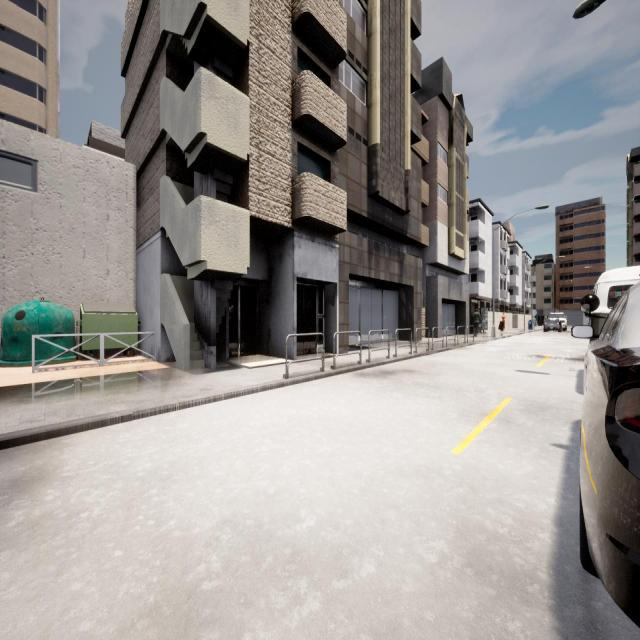Pedestrian: (473, 308, 479, 336), (502, 311, 505, 331)
Traffic_Signs: (532, 309, 537, 315)
Vehicle: (579, 277, 640, 628), (590, 267, 640, 334), (550, 313, 566, 331), (545, 317, 561, 332)
